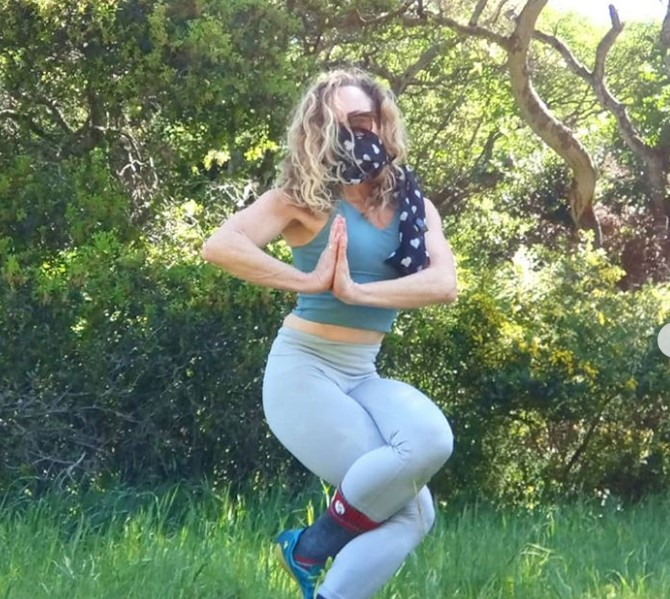face_with_mask: (308, 68, 390, 194)
